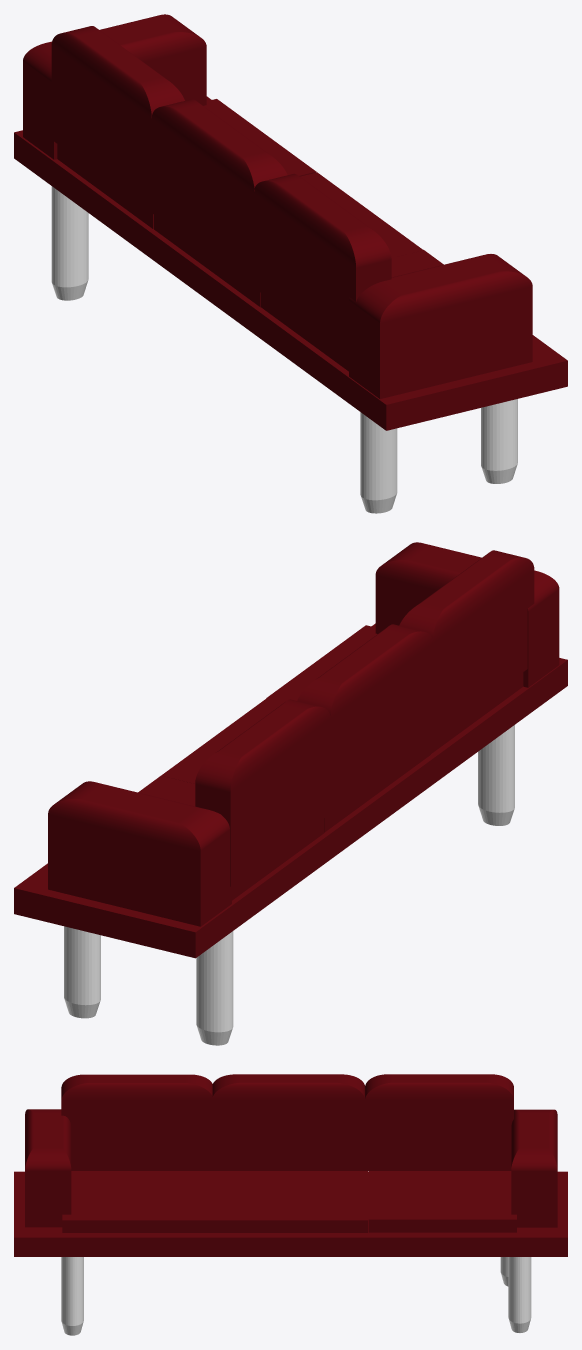
File: Sofa.gltf
The picture shows the model from 3 angles, top to bottom: view 1: azimuth 30°, elevation 25°; view 2: azimuth 150°, elevation 25°; view 3: azimuth 270°, elevation 25°; orthographic projection. The views are drawn at different scales.
Visible parts, largest first — view 1: Cylinder.002; view 2: Cylinder.002; view 3: Cylinder.002.
Part boxes in pixels (<box>): Cylinder.002: <box>14,14,567,513</box>; Cylinder.002: <box>14,542,567,1045</box>; Cylinder.002: <box>14,1074,567,1335</box>.
Bounding box in the file's own units: 4 × 5.78 × 14.2.
